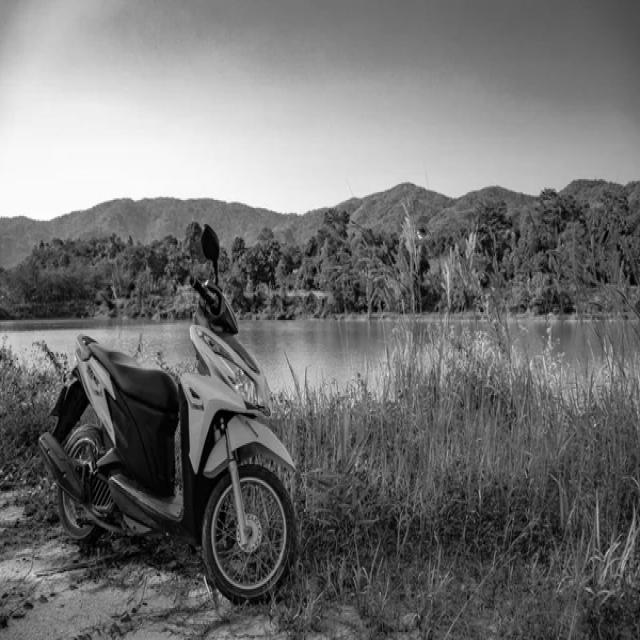Motorcycle: (38, 224, 296, 603)
